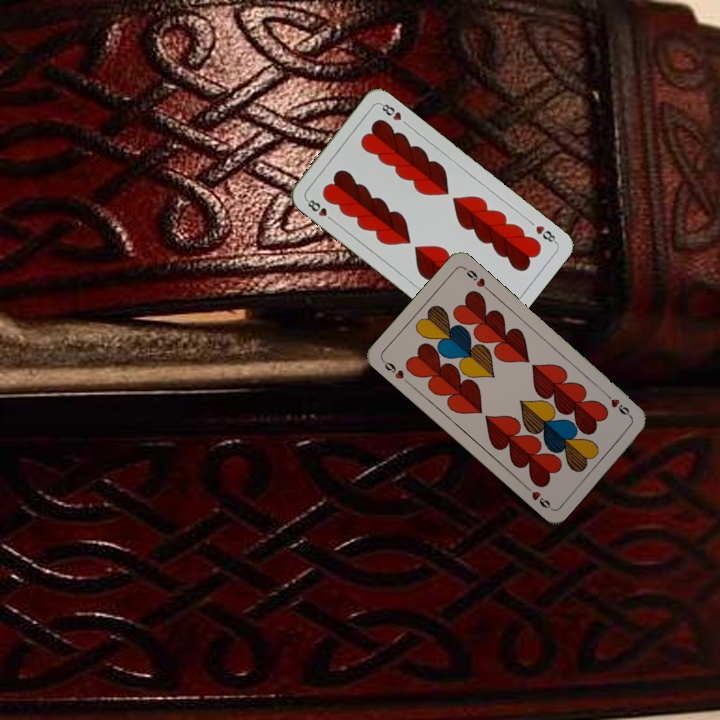H8: (302, 195, 337, 224), (532, 221, 560, 246)
H9: (378, 356, 412, 387), (601, 389, 634, 420)
